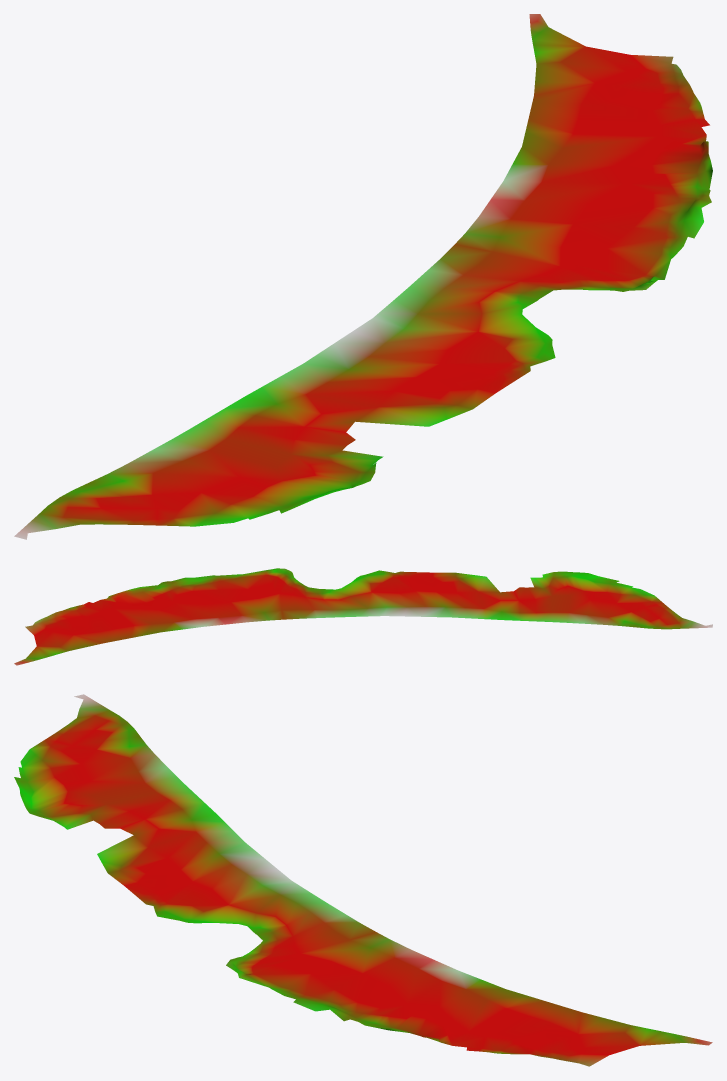
The model's file is pref_sm_beach_winter_sands_b_lv3.fbx.
3 views of the same model, one above another, from view 1: azimuth 30°, elevation 25°; view 2: azimuth 150°, elevation 25°; view 3: azimuth 270°, elevation 25° (orthographic). The views are drawn at different scales.
Parts seen in each view (by area): view 1: pref_sm_beach_winter_sands_b_lv3; view 2: pref_sm_beach_winter_sands_b_lv3; view 3: pref_sm_beach_winter_sands_b_lv3.
Part boxes in pixels (<box>): pref_sm_beach_winter_sands_b_lv3: <box>14,14,712,539</box>; pref_sm_beach_winter_sands_b_lv3: <box>14,568,712,665</box>; pref_sm_beach_winter_sands_b_lv3: <box>14,694,712,1066</box>.
Bounding box in the file's own units: 44.91 × 0.2902 × 35.62.
